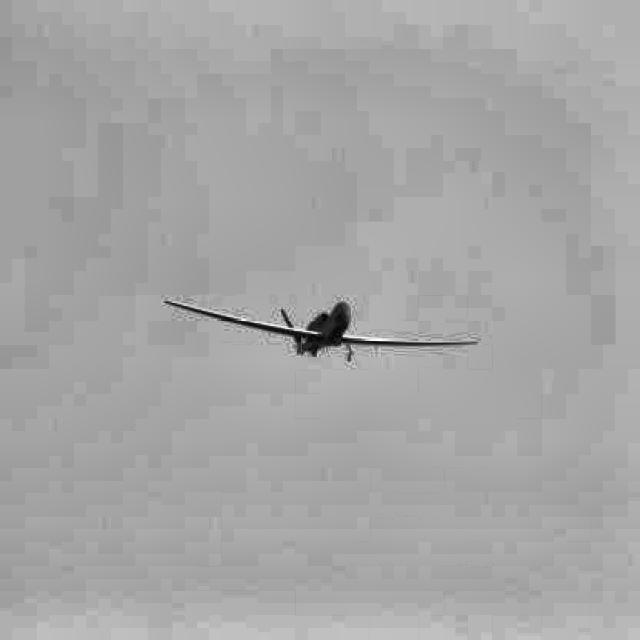RQ4: (164, 298, 479, 362)
